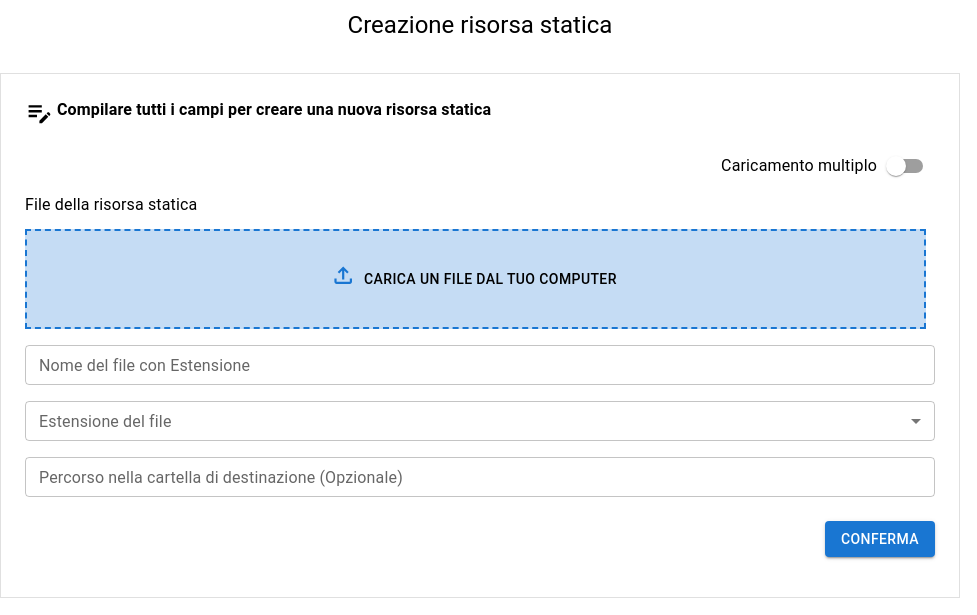
CreateResources Test › Test CreateResources Multi Upload: switch to multiupload form
The image size is (977, 615).
Expected: the field with test id "file-name-test" is shown, [25,345,935,385]
What coordinates should you click on to do the following:
click the checkbox
I would click on:
 (896, 166)
Its box is [886,156,906,176].
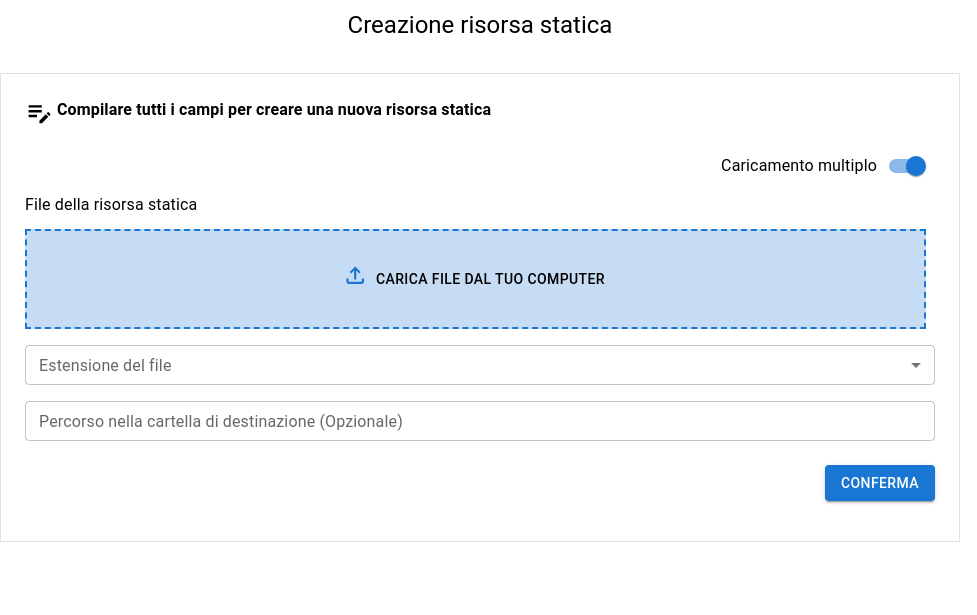
Expected: the field with test id "file-name-test" is gone
